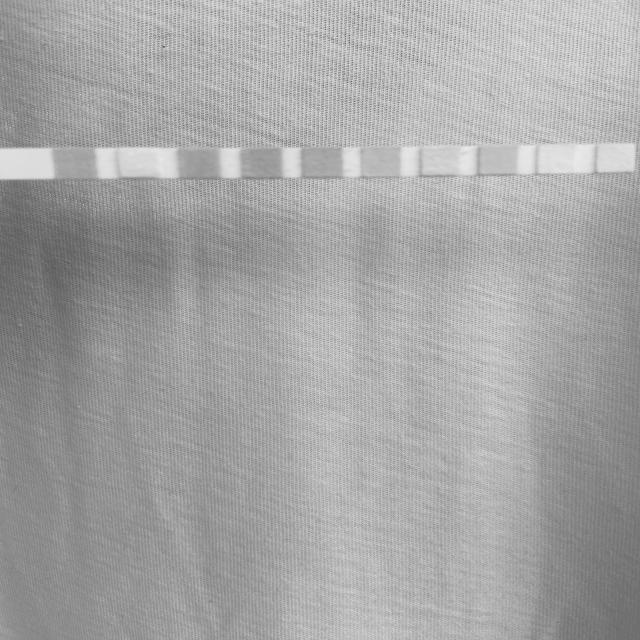Bilirubin: (120, 148, 160, 178)
Blood: (302, 147, 341, 176)
Glucose: (55, 150, 95, 178)
Ketone: (180, 150, 219, 178)
Leukocytes: (596, 144, 635, 173)
Nitrite: (536, 144, 575, 174)
Protein: (420, 147, 460, 176)
SpGravity: (242, 148, 282, 177)
Urobilinogen: (479, 146, 519, 175)
background: (0, 0, 640, 640)
pH: (361, 148, 401, 176)
strip: (0, 144, 636, 180)
